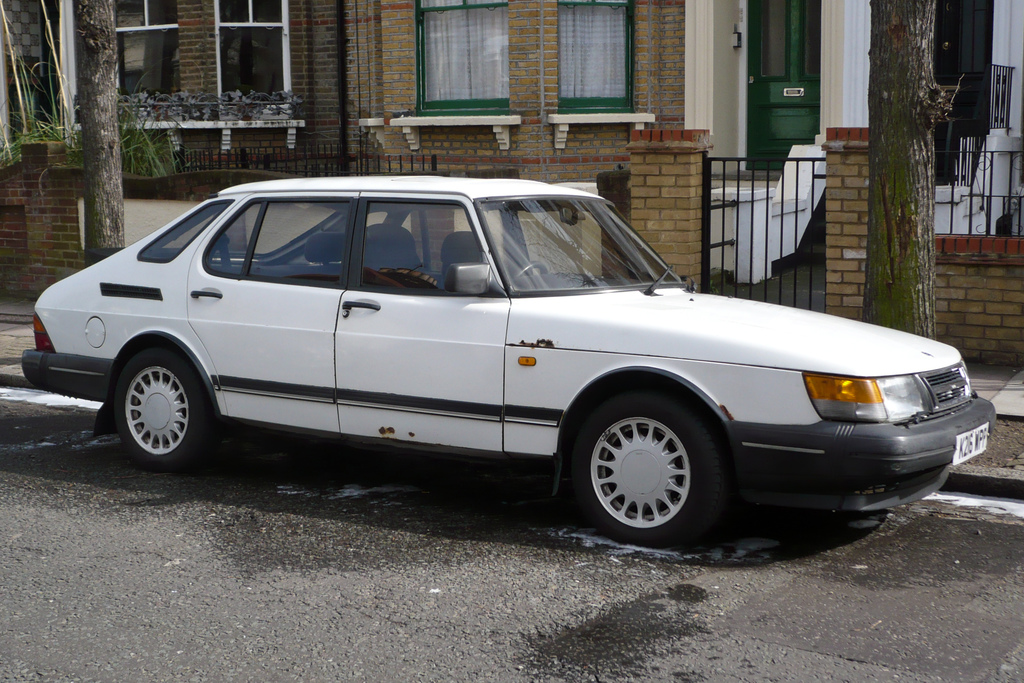Car: (16, 175, 995, 547)
